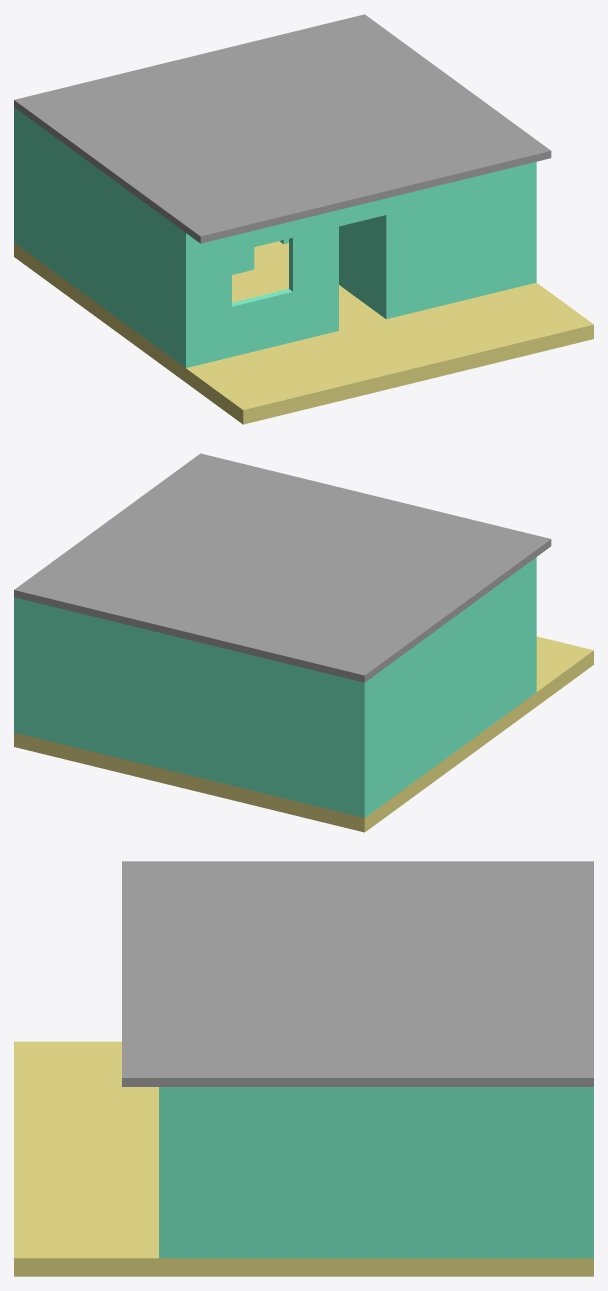
File: SM_Casa_Interior.glb
3 renders of one model, top to bottom at view 1: azimuth 30°, elevation 25°; view 2: azimuth 150°, elevation 25°; view 3: azimuth 270°, elevation 25°, orthographic. The views are drawn at different scales.
Parts seen in each view (by area): view 1: SM_Techo, SM_Piso, SM_Pared_Izq, SM_Pared.003, SM_Pared, SM_Pared.002, SM_Pared.009, SM_Pared.001, SM_Pared.004, SM_Pared_Atras; view 2: SM_Techo, SM_Pared_Atras, SM_Pared_Izq, SM_Piso, SM_Pared; view 3: SM_Techo, SM_Pared_Derecha, SM_Piso, SM_Pared.003, SM_Pared_Atras.
Part boxes in pixels (x1=…): SM_Techo: x1=14, y1=14, x2=551, y2=243; SM_Piso: x1=14, y1=241, x2=593, y2=424; SM_Pared_Izq: x1=18, y1=110, x2=181, y2=364; SM_Pared.003: x1=382, y1=161, x2=536, y2=319; SM_Pared: x1=182, y1=230, x2=231, y2=367; SM_Pared.002: x1=289, y1=226, x2=338, y2=341; SM_Pared.009: x1=339, y1=216, x2=382, y2=315; SM_Pared.001: x1=232, y1=289, x2=292, y2=356; SM_Pared.004: x1=232, y1=198, x2=386, y2=252; SM_Pared_Atras: x1=14, y1=107, x2=17, y2=244; SM_Techo: x1=14, y1=453, x2=551, y2=682; SM_Pared_Atras: x1=14, y1=597, x2=368, y2=817; SM_Pared_Izq: x1=368, y1=560, x2=532, y2=814; SM_Piso: x1=14, y1=636, x2=593, y2=832; SM_Pared: x1=532, y1=557, x2=536, y2=694; SM_Techo: x1=122, y1=861, x2=593, y2=1086; SM_Pared_Derecha: x1=169, y1=1087, x2=583, y2=1258; SM_Piso: x1=14, y1=1041, x2=593, y2=1276; SM_Pared.003: x1=159, y1=1087, x2=168, y2=1258; SM_Pared_Atras: x1=584, y1=1087, x2=593, y2=1258.
Bounding box in the file's own units: 7.6 × 3.25 × 8.6.
